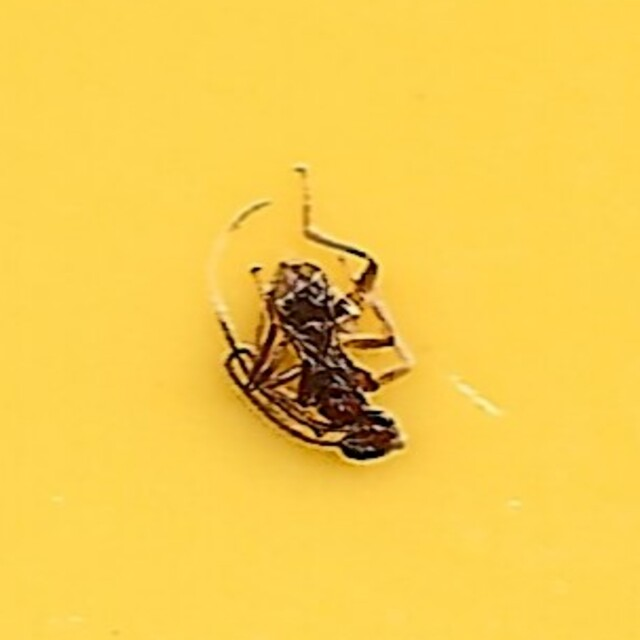Hymenoptera: (211, 175, 429, 465)
